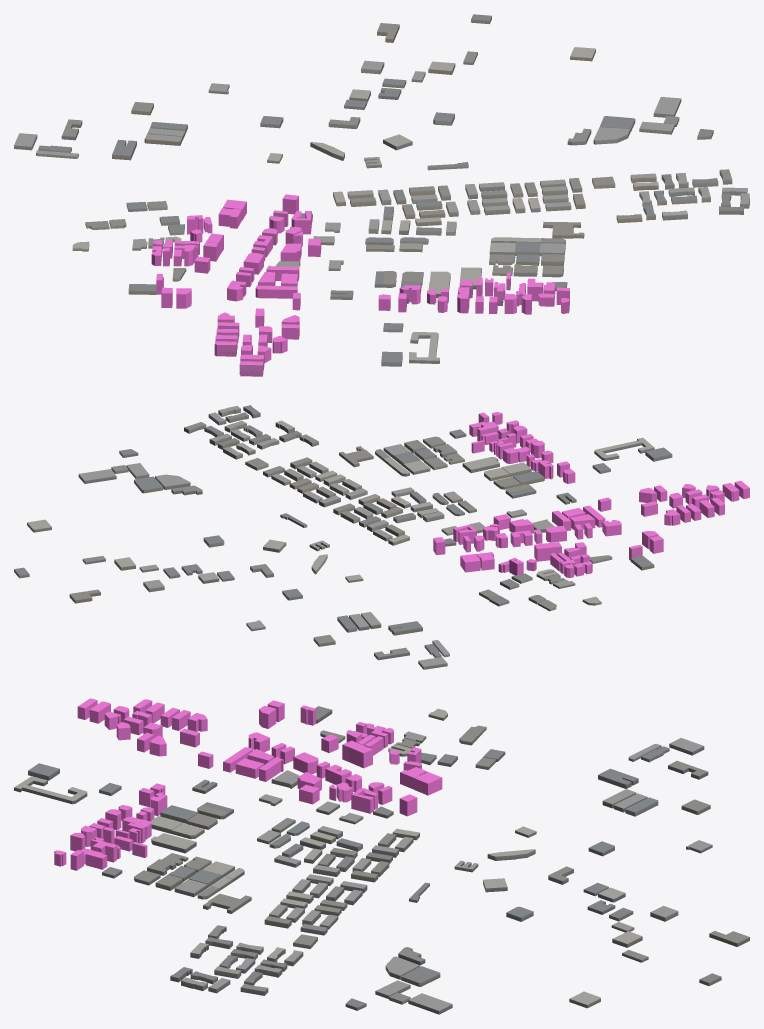
File: bld_19_14.fbx
The picture shows the model from 3 angles, top to bottom: view 1: azimuth 30°, elevation 25°; view 2: azimuth 150°, elevation 25°; view 3: azimuth 270°, elevation 25°; orthographic projection. The views are drawn at different scales.
Visible parts, largest first — view 1: bld_19_14_LOD0, bld_19_14_COL; view 2: bld_19_14_LOD0, bld_19_14_COL; view 3: bld_19_14_LOD0, bld_19_14_COL.
Boxes of the visible parts, x1,y1,x2,y2 form: bld_19_14_LOD0: [14, 14, 749, 376]; bld_19_14_COL: [151, 194, 569, 376]; bld_19_14_LOD0: [14, 405, 672, 669]; bld_19_14_COL: [433, 412, 749, 577]; bld_19_14_LOD0: [14, 706, 749, 1014]; bld_19_14_COL: [54, 698, 442, 870].
Size of what is drawn, in the model's own units: 2067 by 48.59 by 2110.
